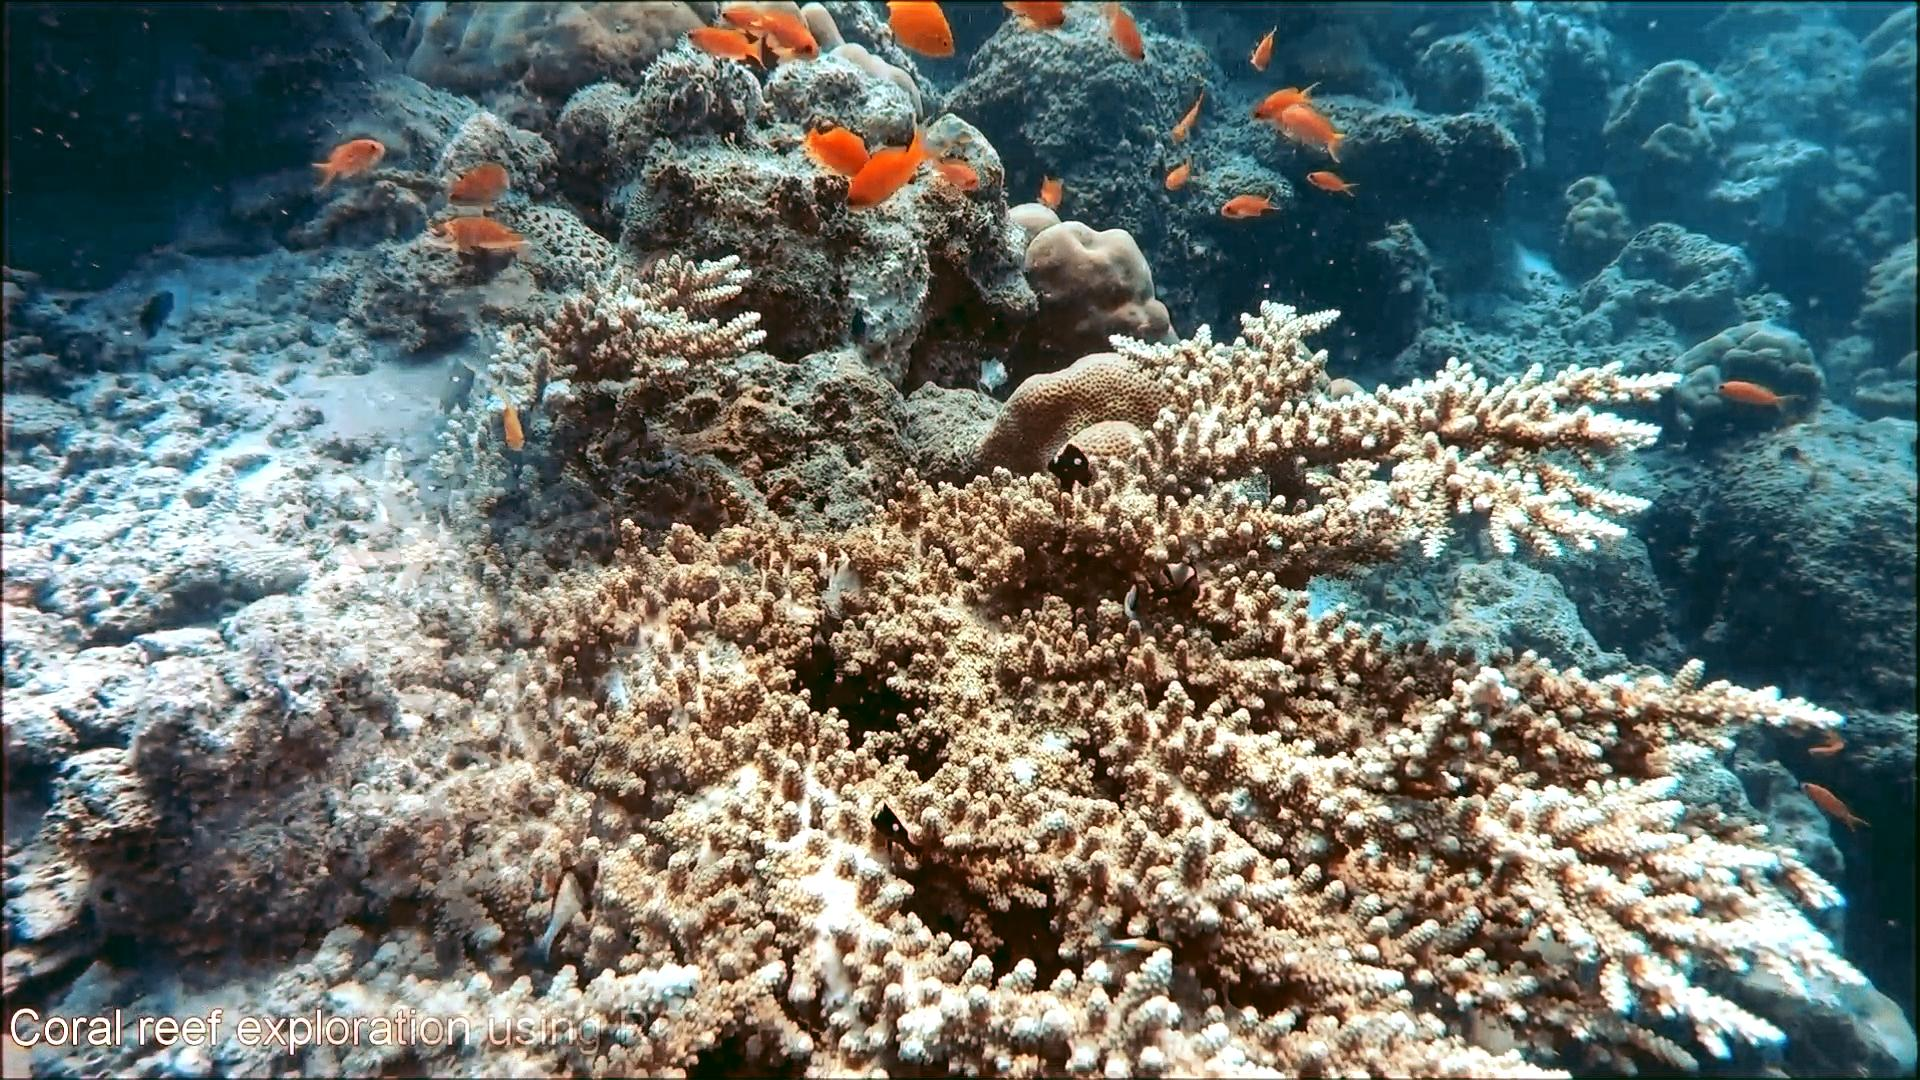Porites-Porites pukoensis: (512, 0, 715, 105)
